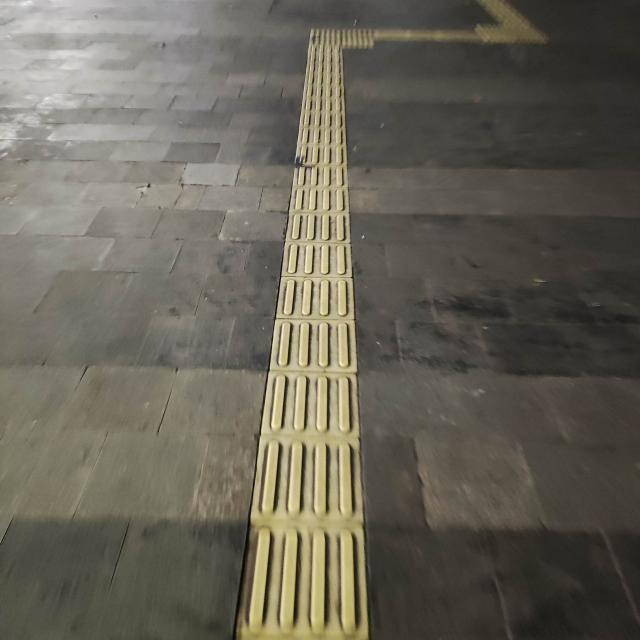kanan: (299, 19, 428, 59)
